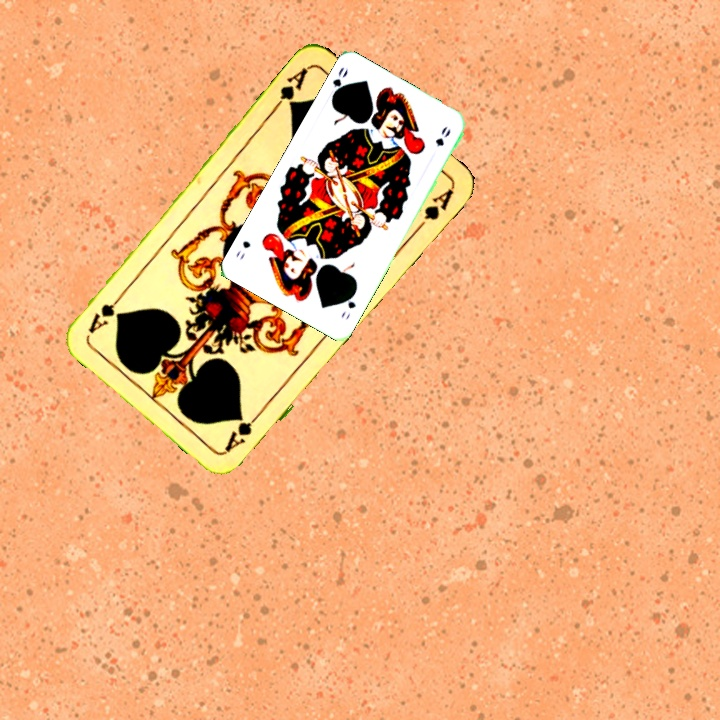GA: (220, 405, 266, 455), (268, 63, 311, 113)
GO: (327, 63, 351, 102), (337, 287, 359, 323)
